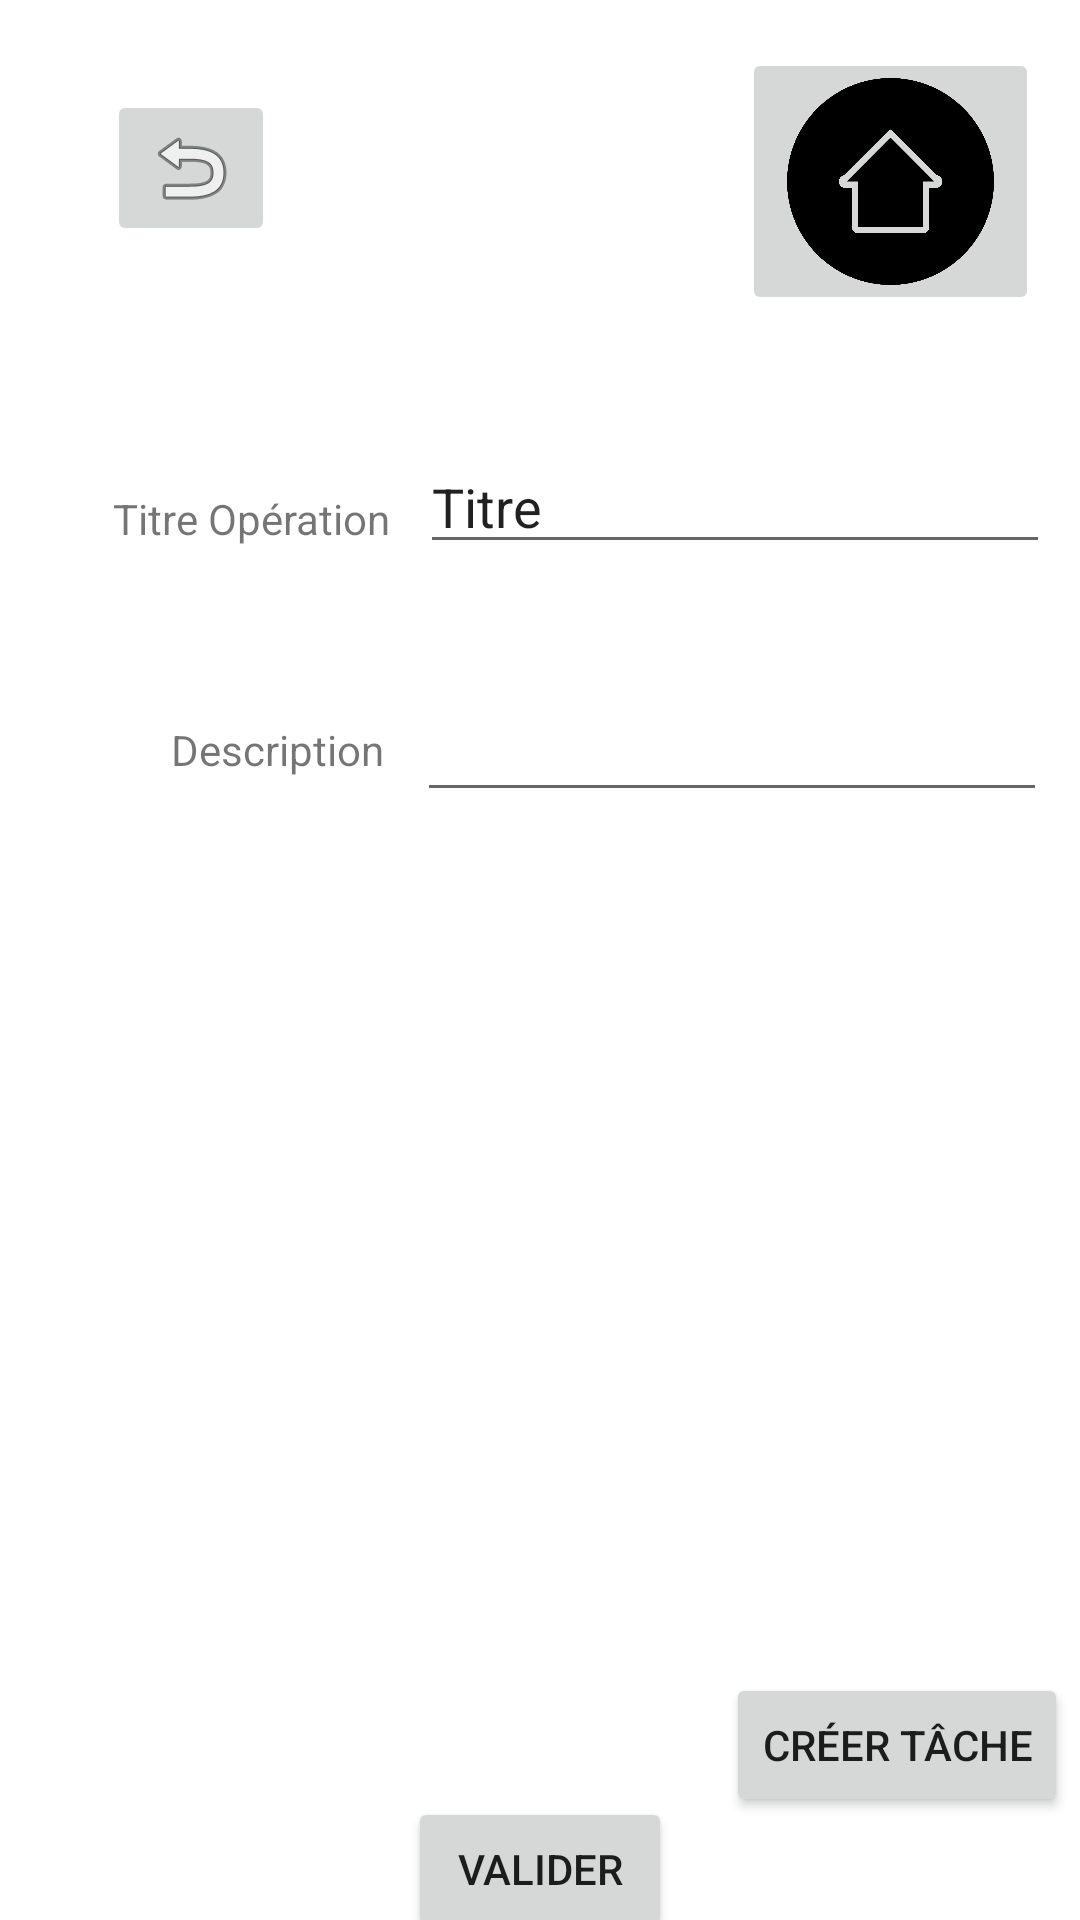

Icons on this 1080×1920 Android screen, each with the point to tap as (x,y):
maison: (890,181)
revert: (191,168)
